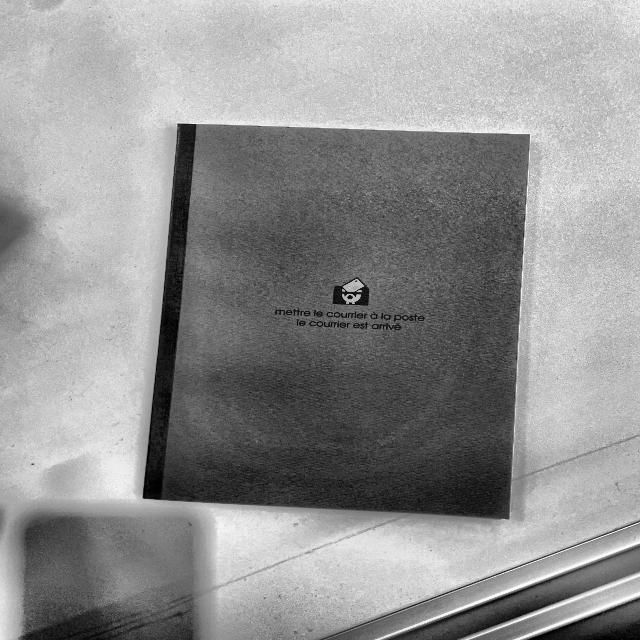Notebook: (120, 101, 552, 540)
